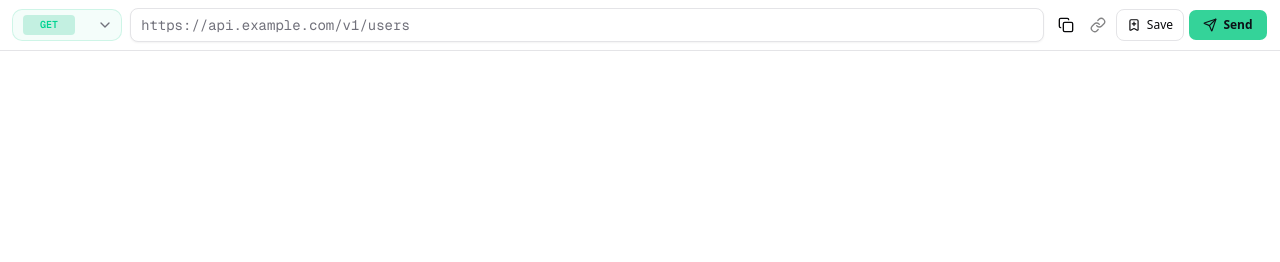
Test: UrlBar › method selector updates tab method
Click the dropdown with test id "method-selector" at (67, 25), box top-left (12, 9), bottom-right (122, 41)
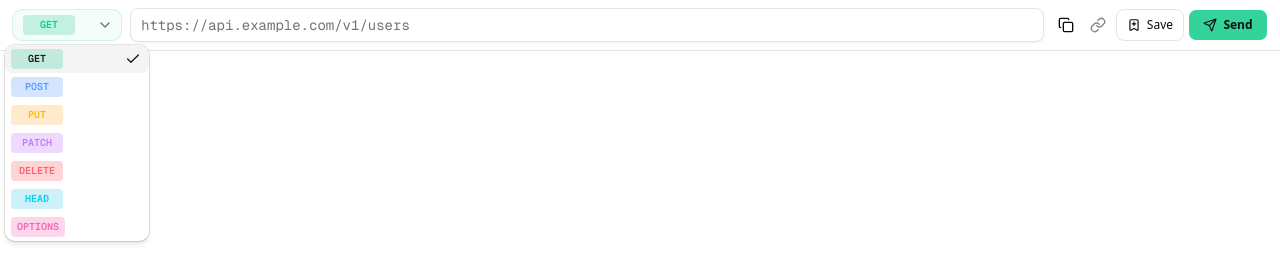
Click the option with test id "method-post" at (37, 87), box top-left (11, 77), bottom-right (63, 97)
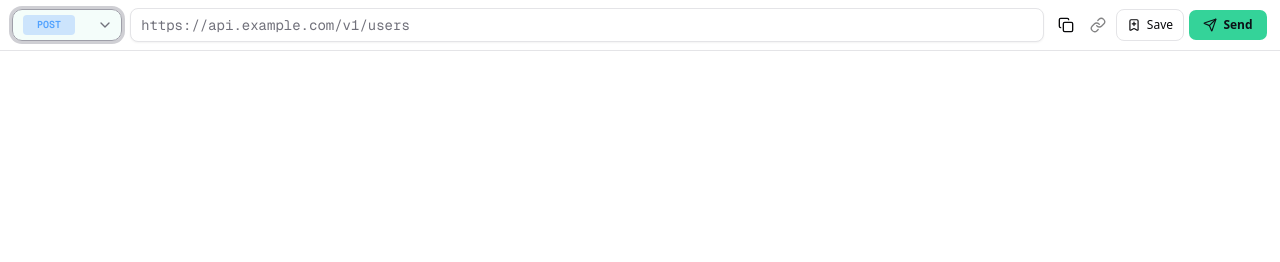
expect the text "POST" is shown: met, box top-left (23, 15), bottom-right (75, 35)
